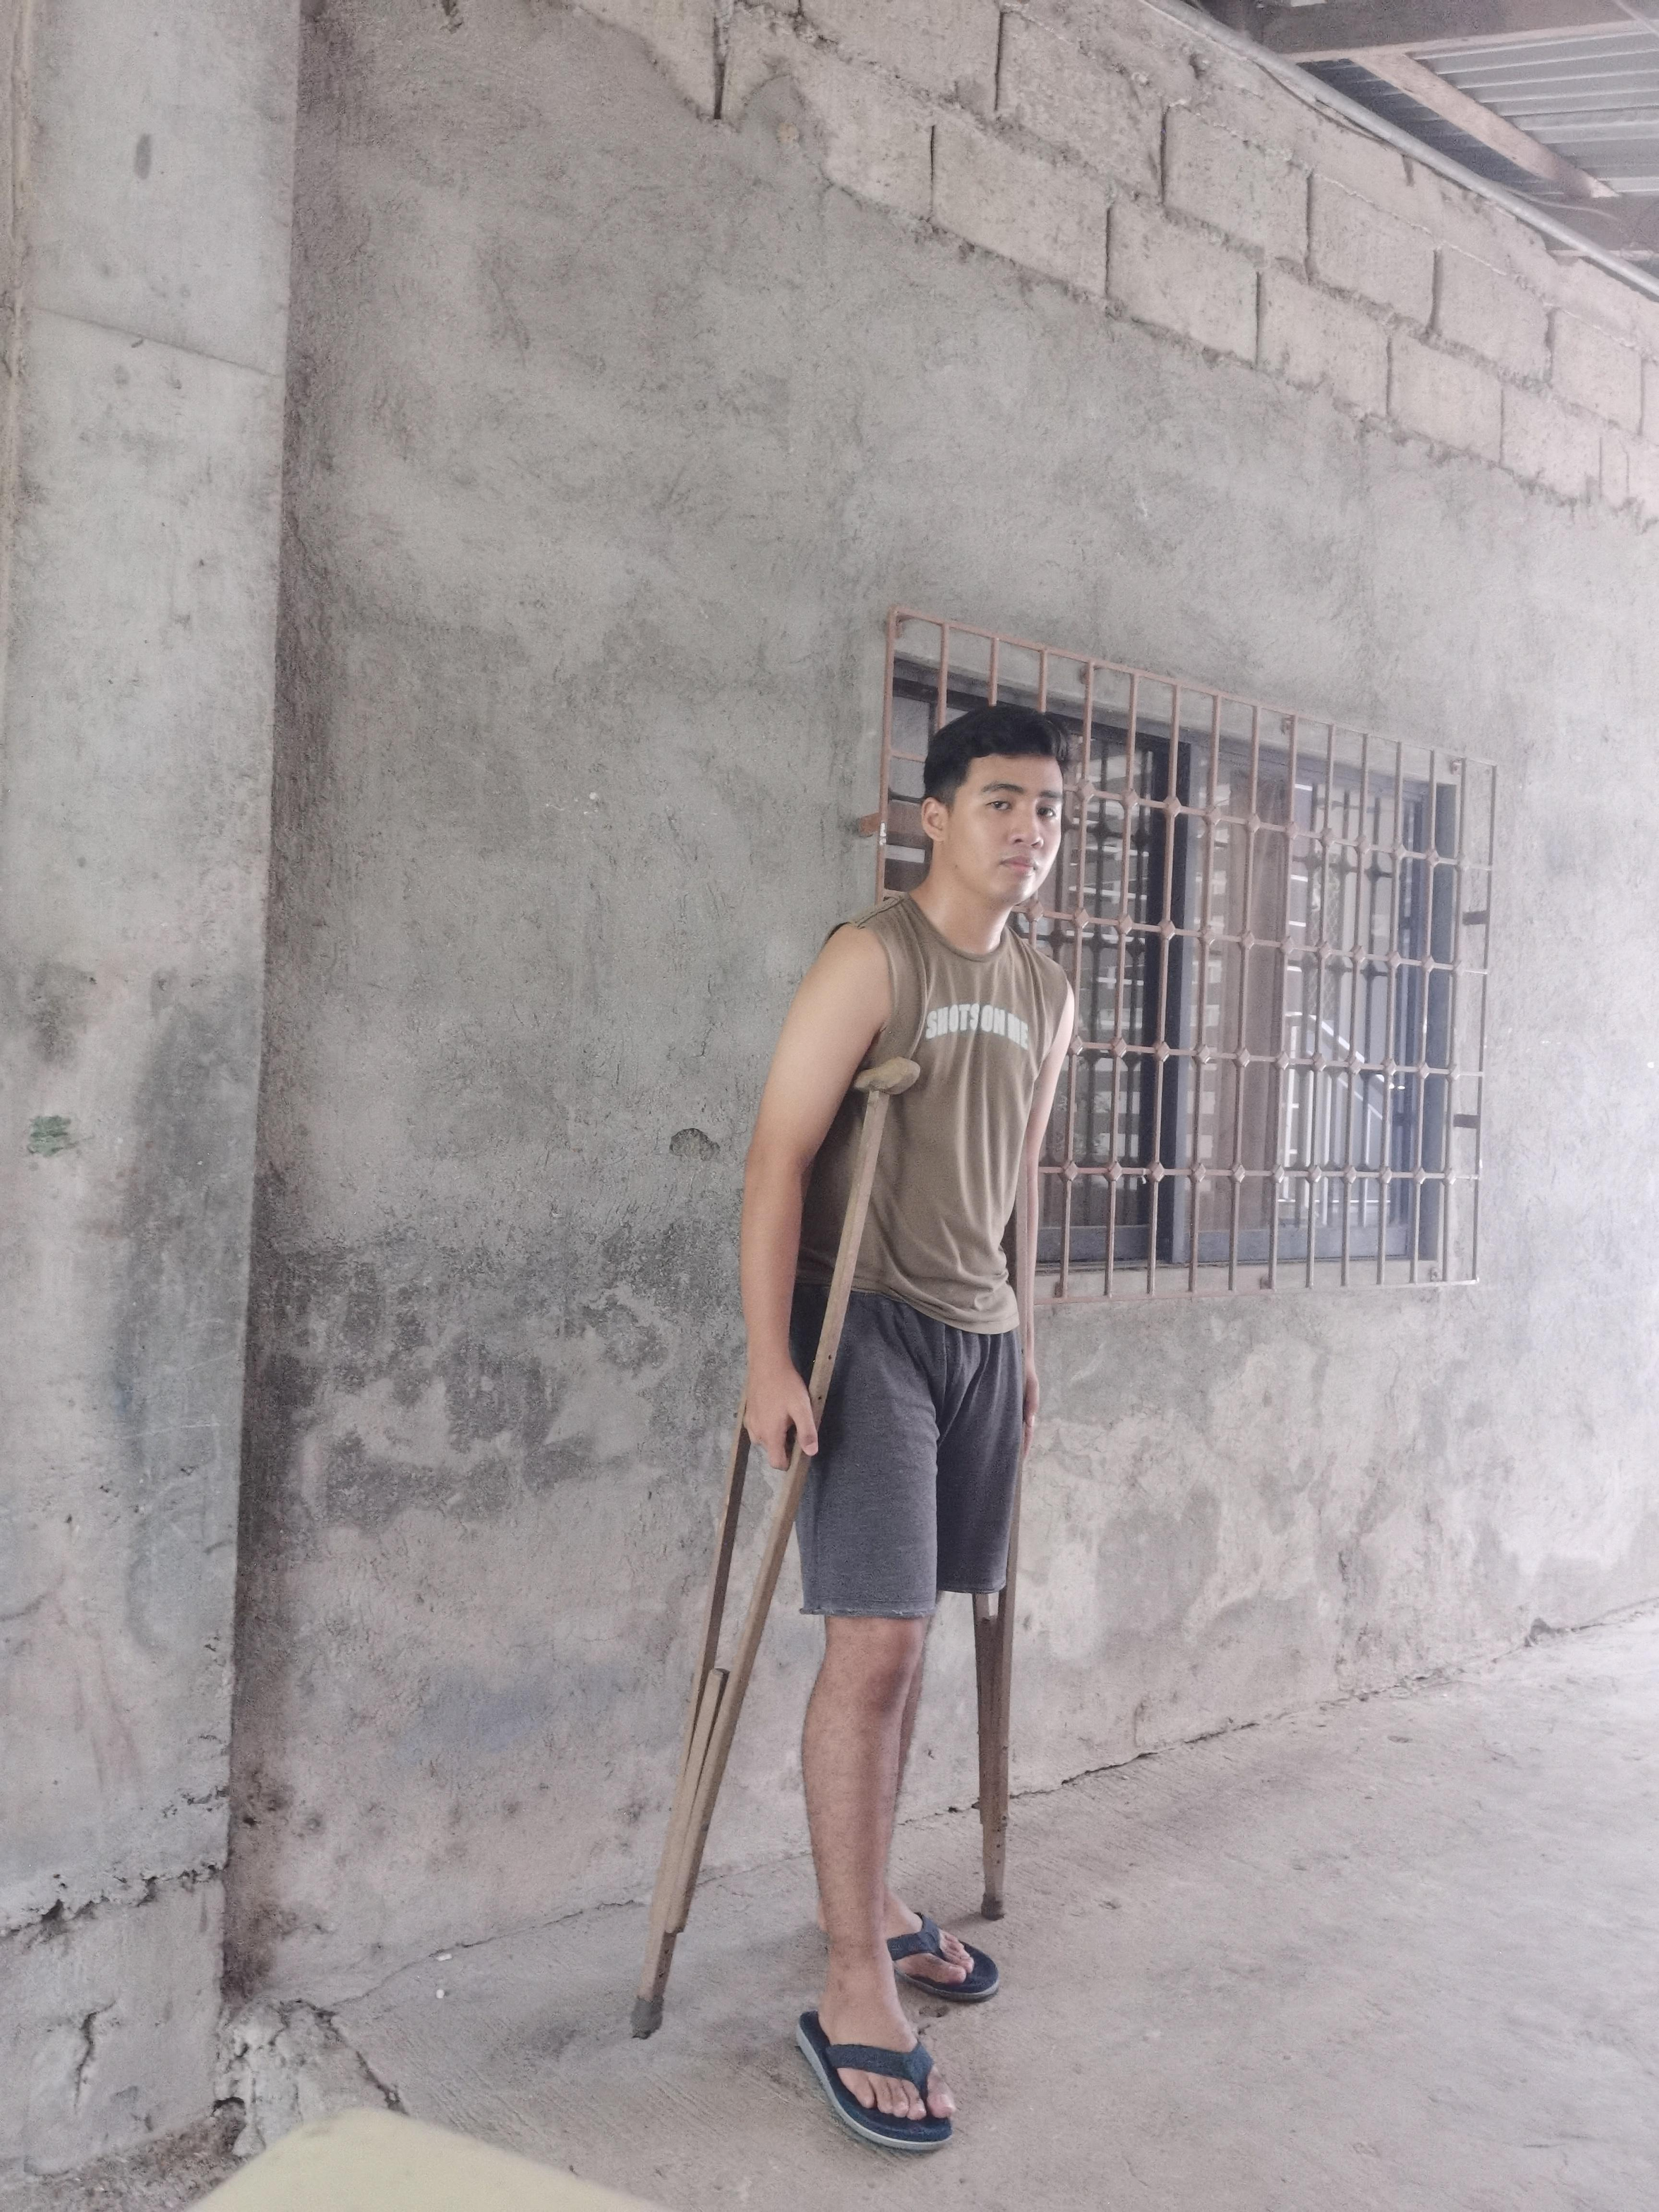crutches: (610, 683, 1117, 2170)
